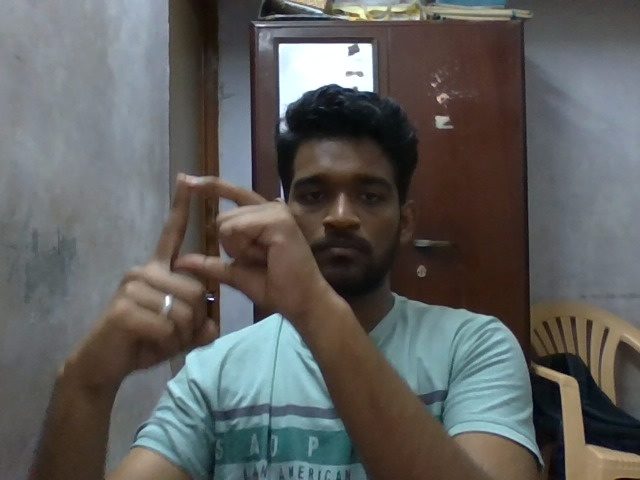D: (67, 167, 336, 381)
